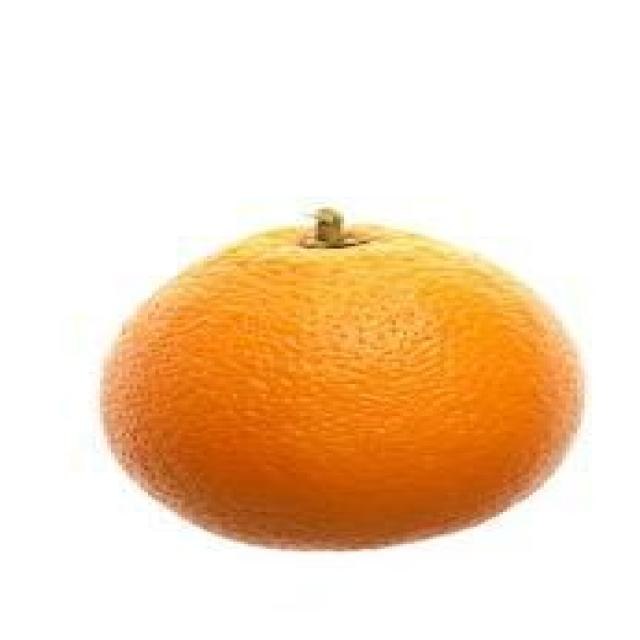orange: (97, 225, 592, 553)
